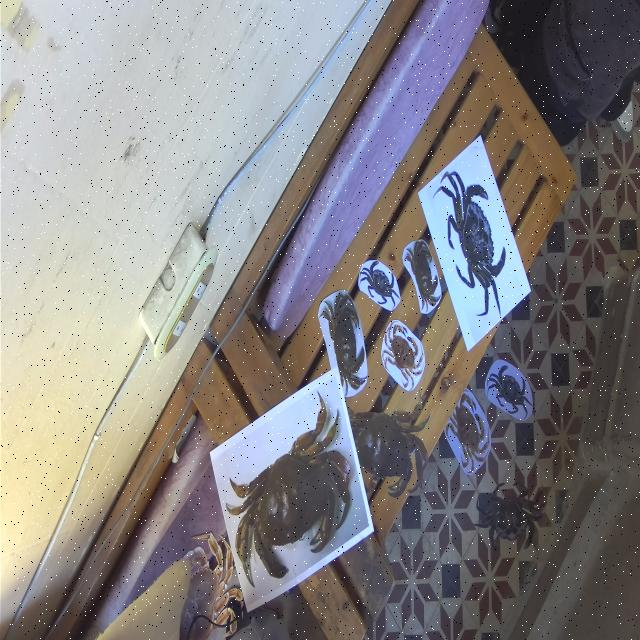European_Green_Crab: (429, 145, 521, 340), (469, 474, 550, 560), (484, 356, 537, 427), (356, 251, 405, 317)
